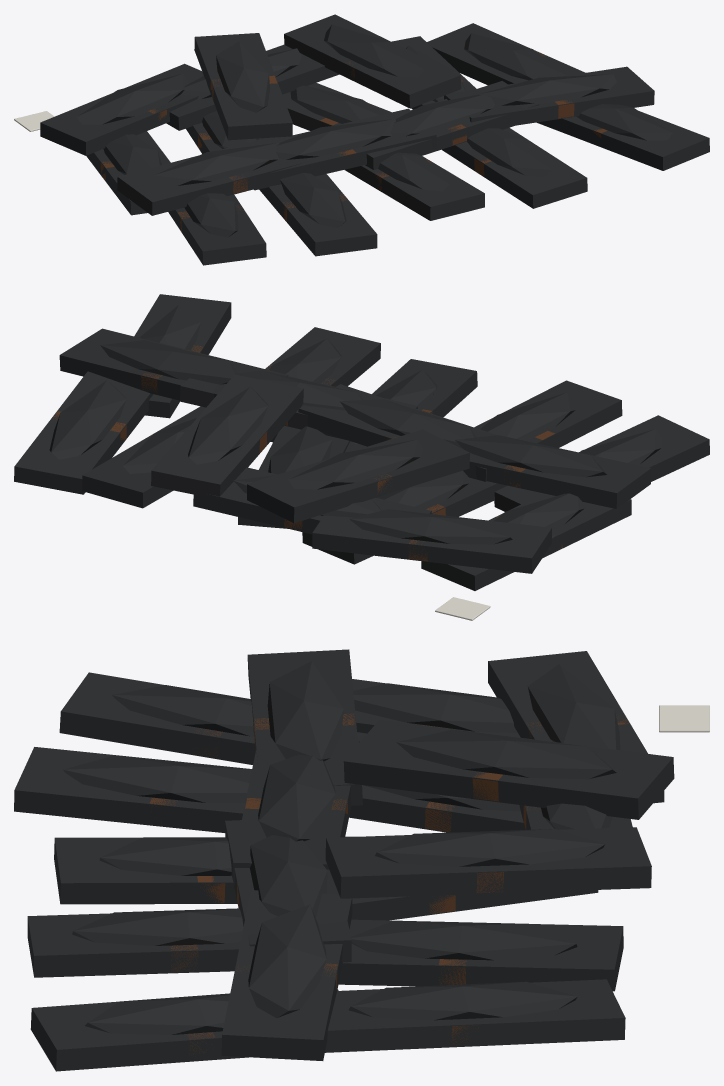
Rendered from body_bag_pile.glb.
3 renders of one model, top to bottom at view 1: azimuth 30°, elevation 25°; view 2: azimuth 150°, elevation 25°; view 3: azimuth 270°, elevation 25°, orthographic. The views are drawn at different scales.
Parts seen in each view (by area): view 1: body_bag_pile; view 2: body_bag_pile; view 3: body_bag_pile.
Boxes of the visible parts, <box> form: body_bag_pile: <box>14,14,709,265</box>; body_bag_pile: <box>14,294,709,620</box>; body_bag_pile: <box>14,649,709,1071</box>.
Size of what is drawn, in the model's own units: 5.32 by 0.651 by 4.1.
2 materials, 2 textured.
